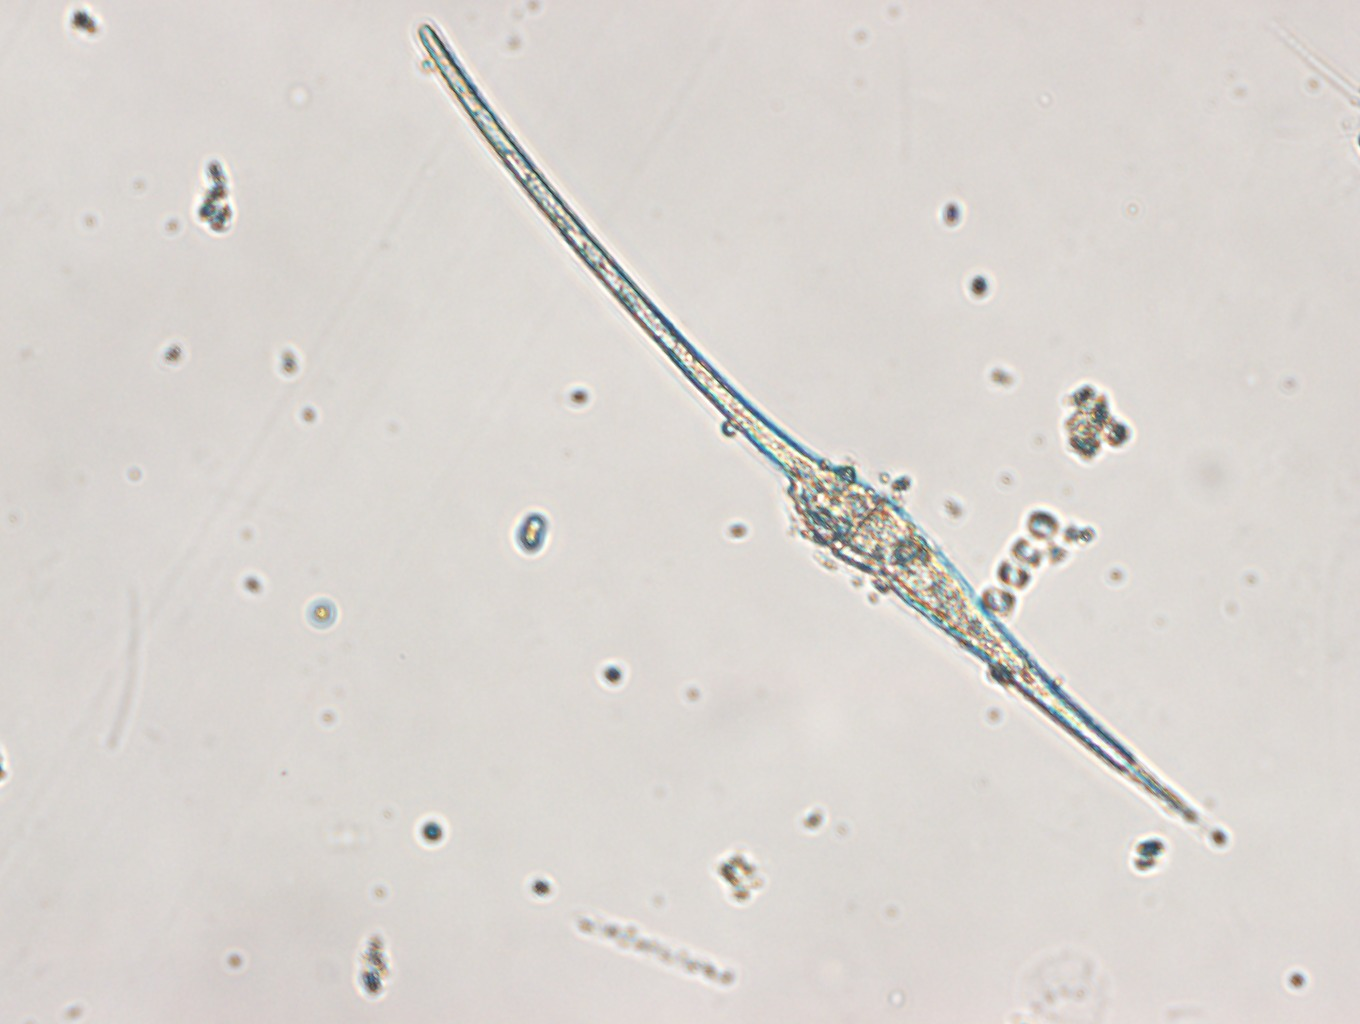ceratium fusus: (413, 16, 1230, 853)
